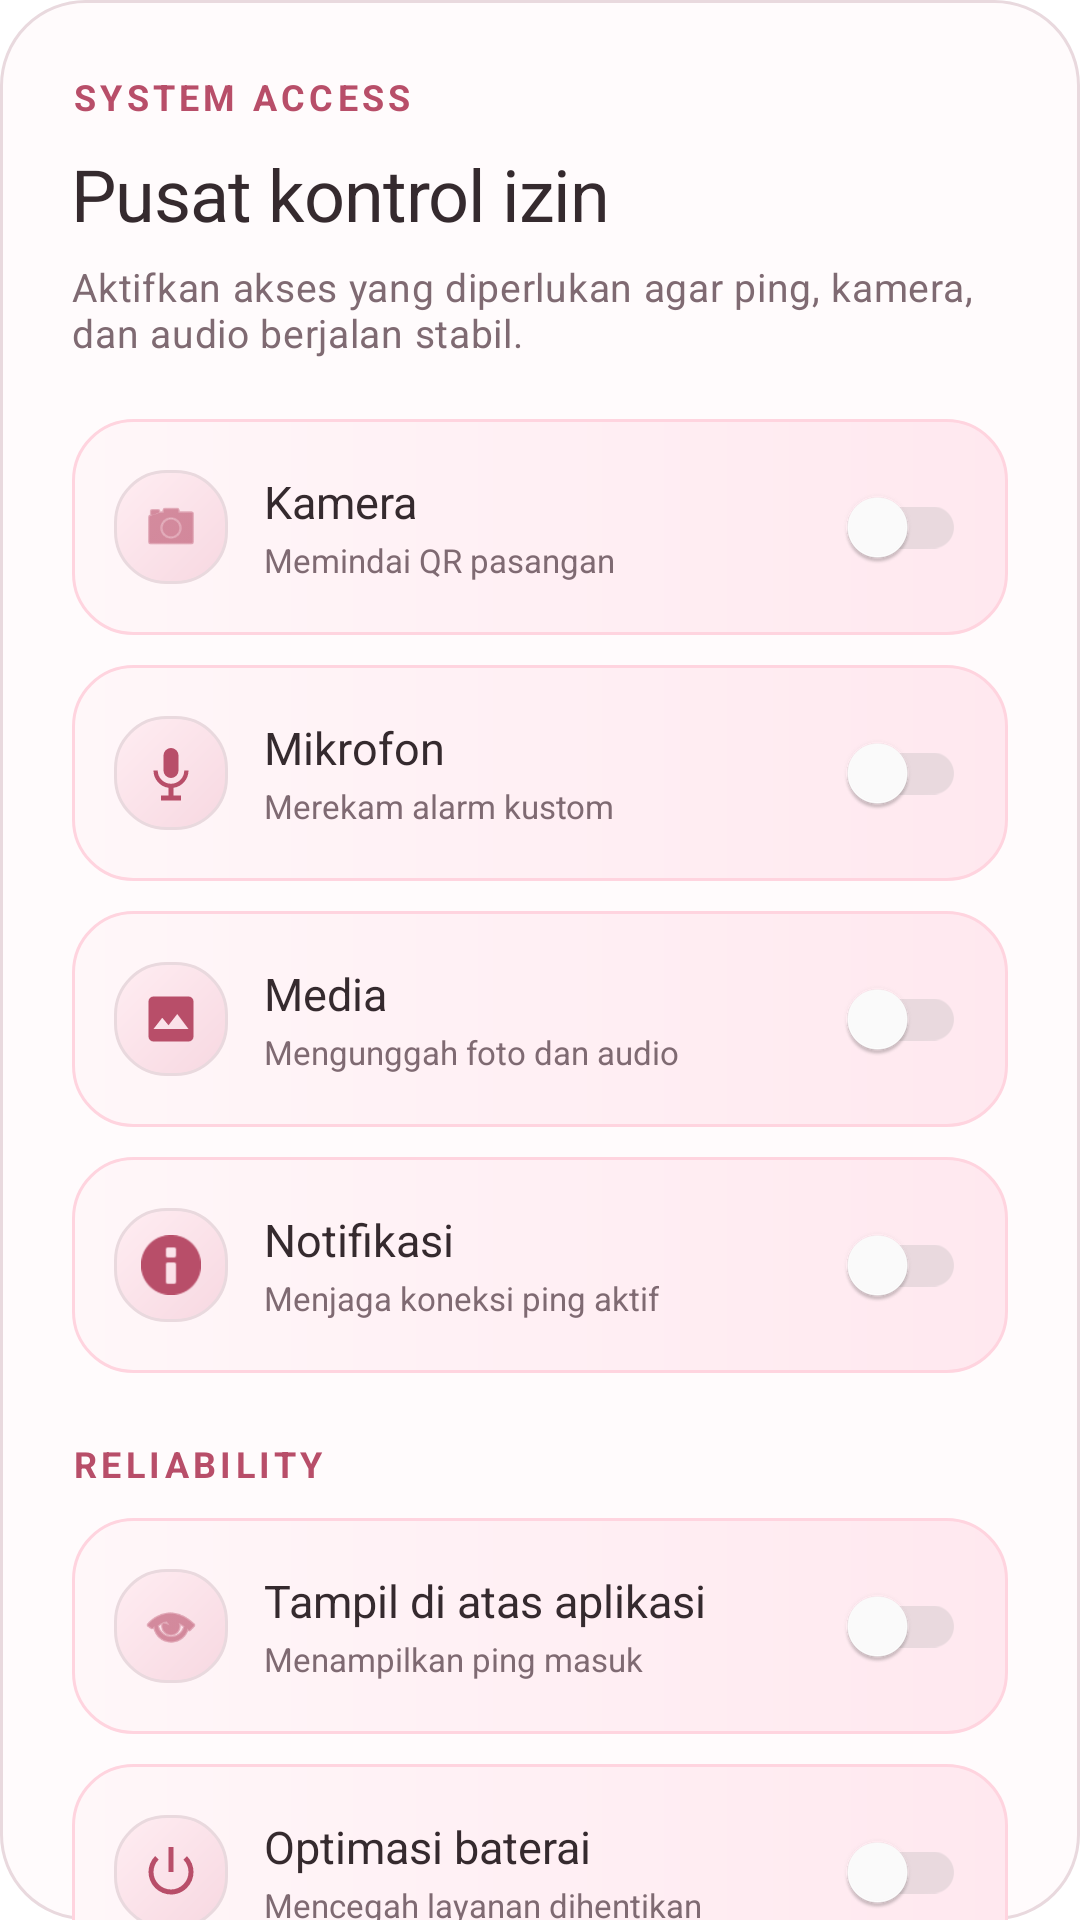

Where icons sit on this 1080w x 1920h app screen, as region(x1, y1, x2, y2):
camera: region(114, 470, 228, 584)
gallery rose: region(114, 962, 228, 1076)
info: region(114, 1208, 228, 1322)
lock power off: region(114, 1815, 228, 1920)
record rose: region(114, 716, 228, 830)
view: region(114, 1569, 228, 1683)
